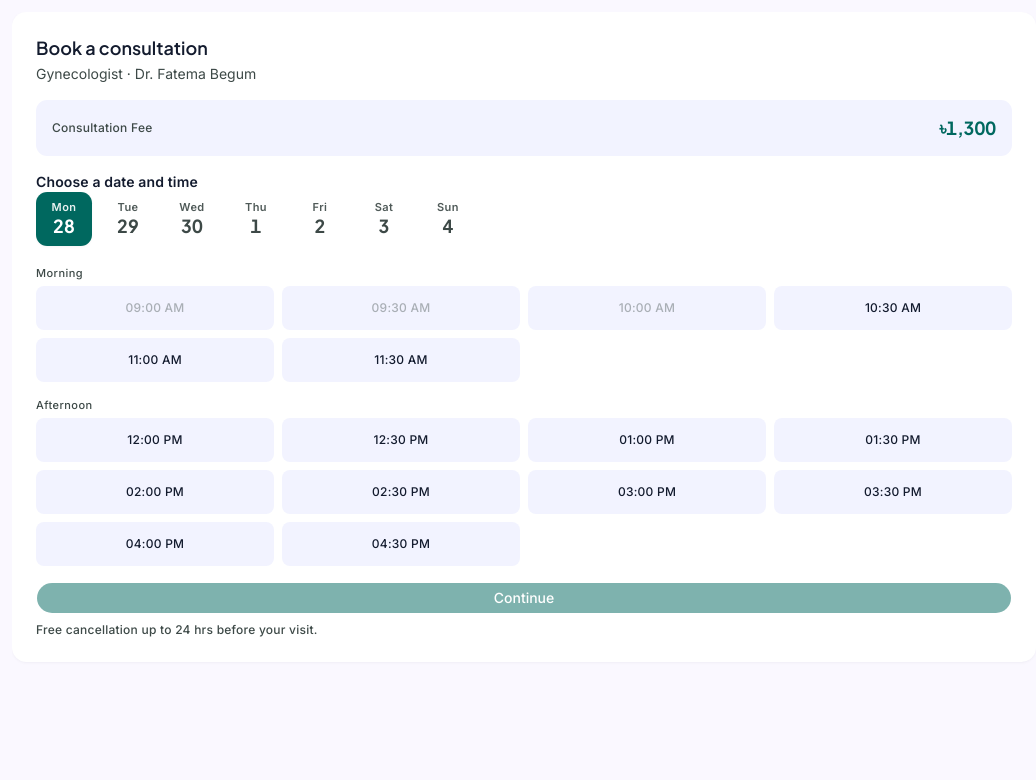
Test case: BookingFlow booking journey › returns to slot picking when the backend reports 409
Click the radio button named "10:30 AM" next to "10:30 AM" at (893, 308), box [885, 300, 901, 316]
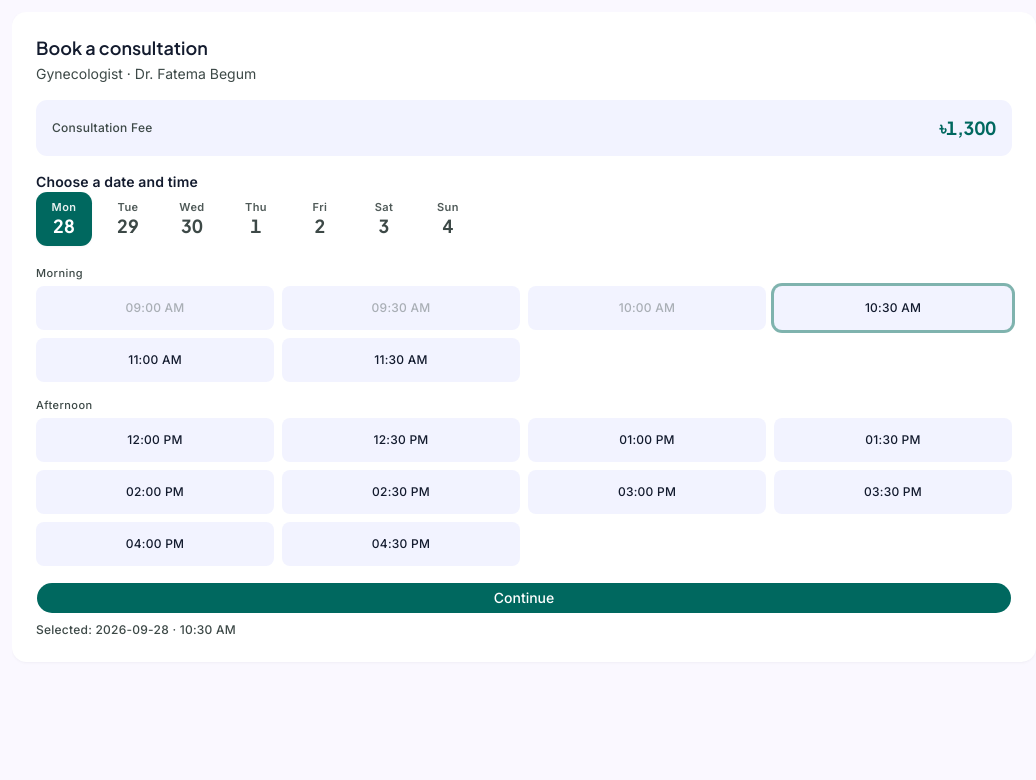
Click the button "Continue" at (524, 598), box [36, 582, 1012, 614]
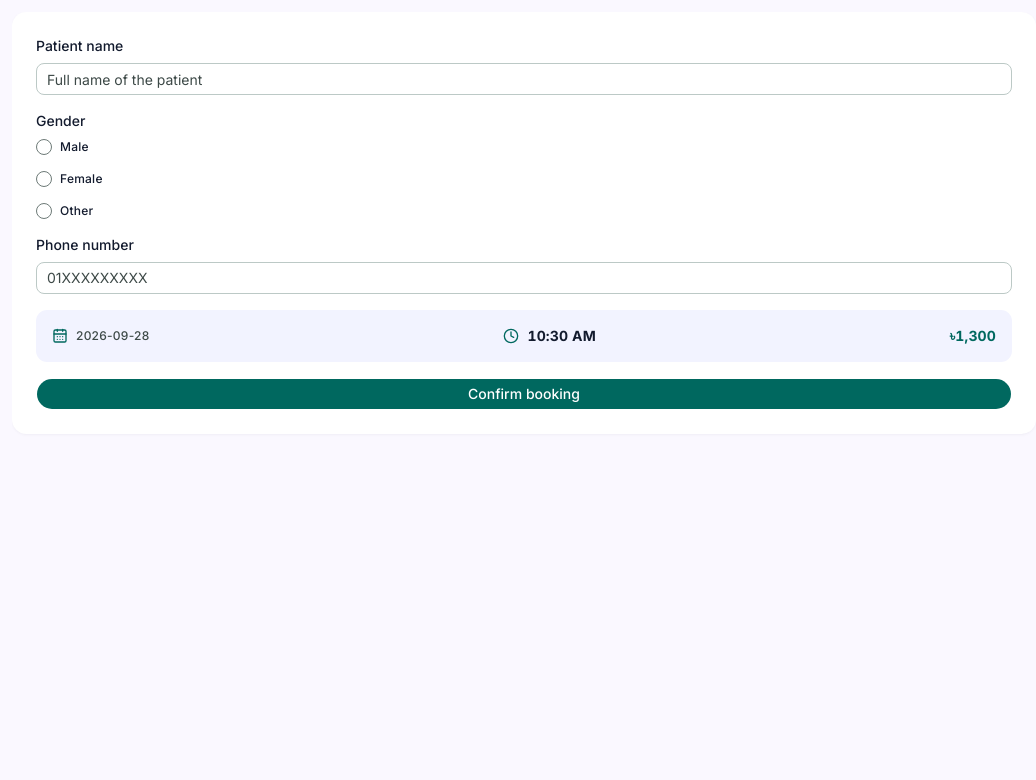
Type "Rifat Hossain" into the field labelled "Patient name" at (524, 79), box [36, 63, 1012, 95]
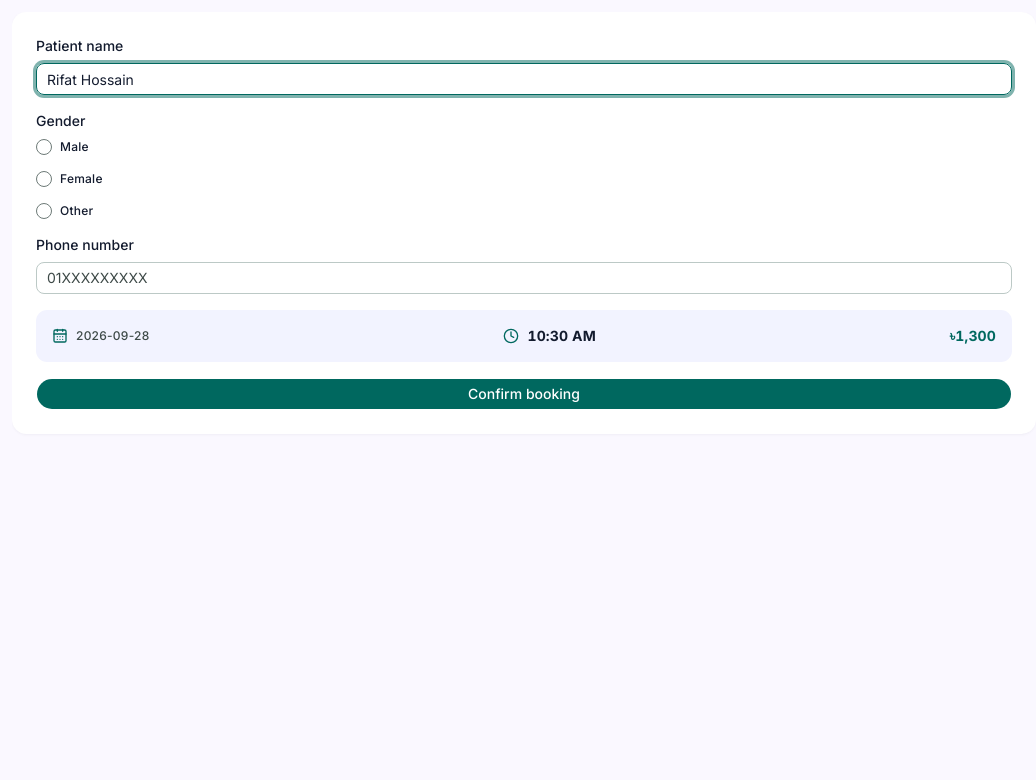
Click the 1st radio button named "Male" at (44, 146), box [36, 138, 52, 154]
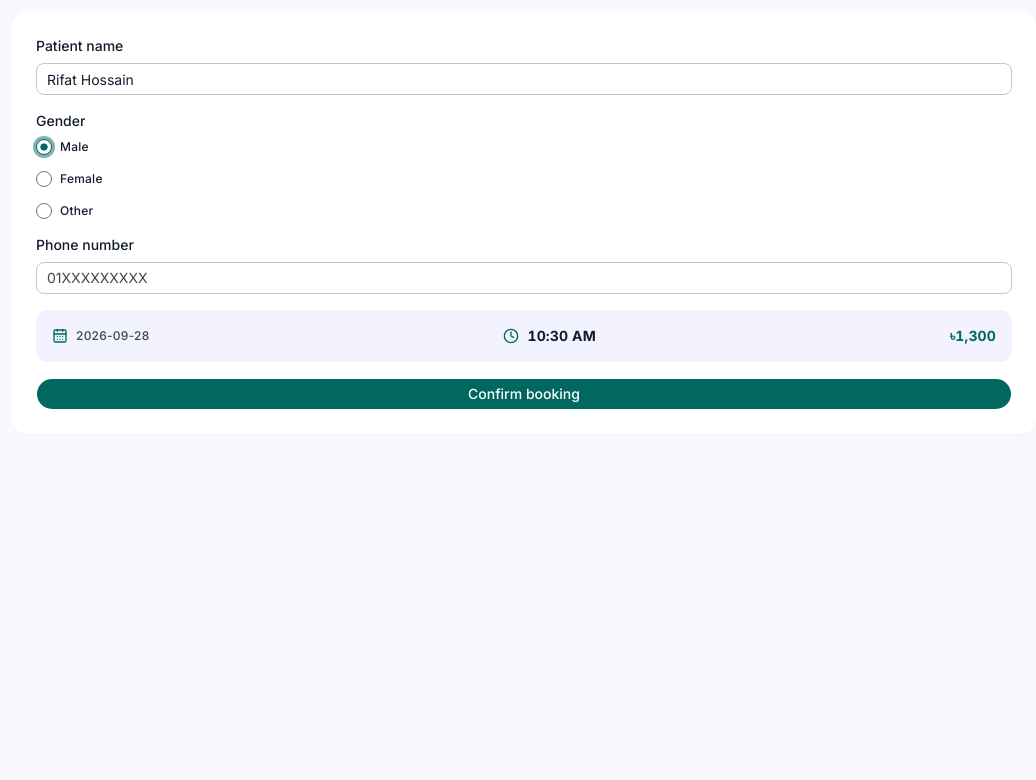
Type "01712345678" into the field labelled "Phone number" at (524, 278), box [36, 262, 1012, 294]
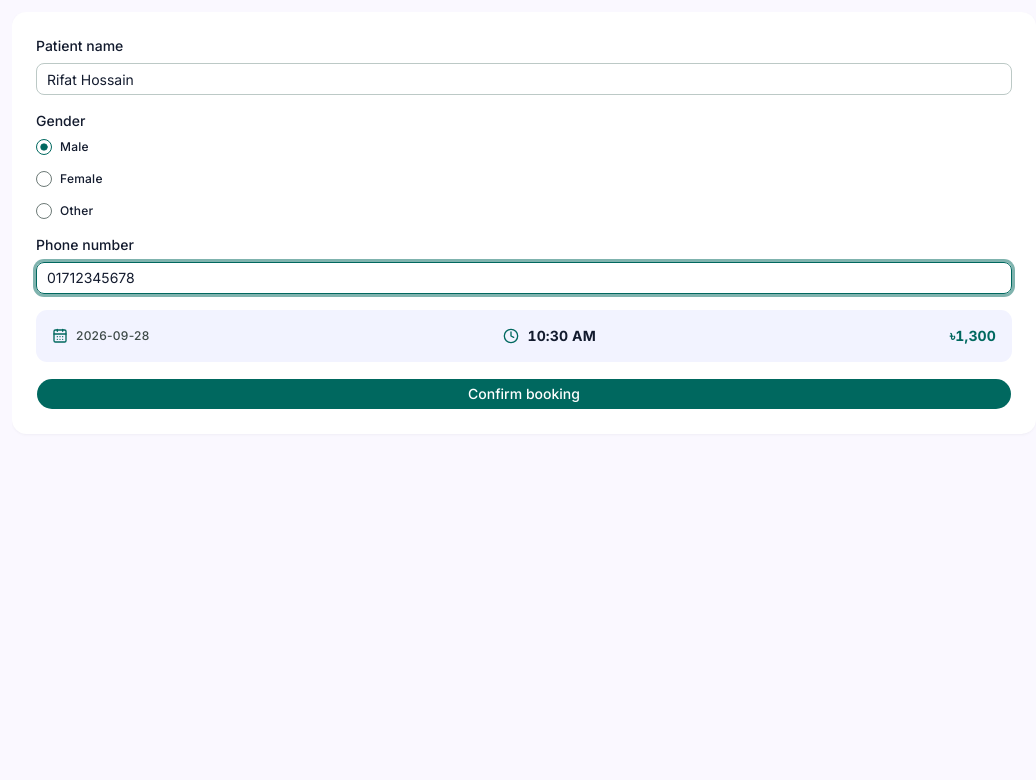
Click the button "Confirm booking" at (524, 394), box [36, 378, 1012, 410]
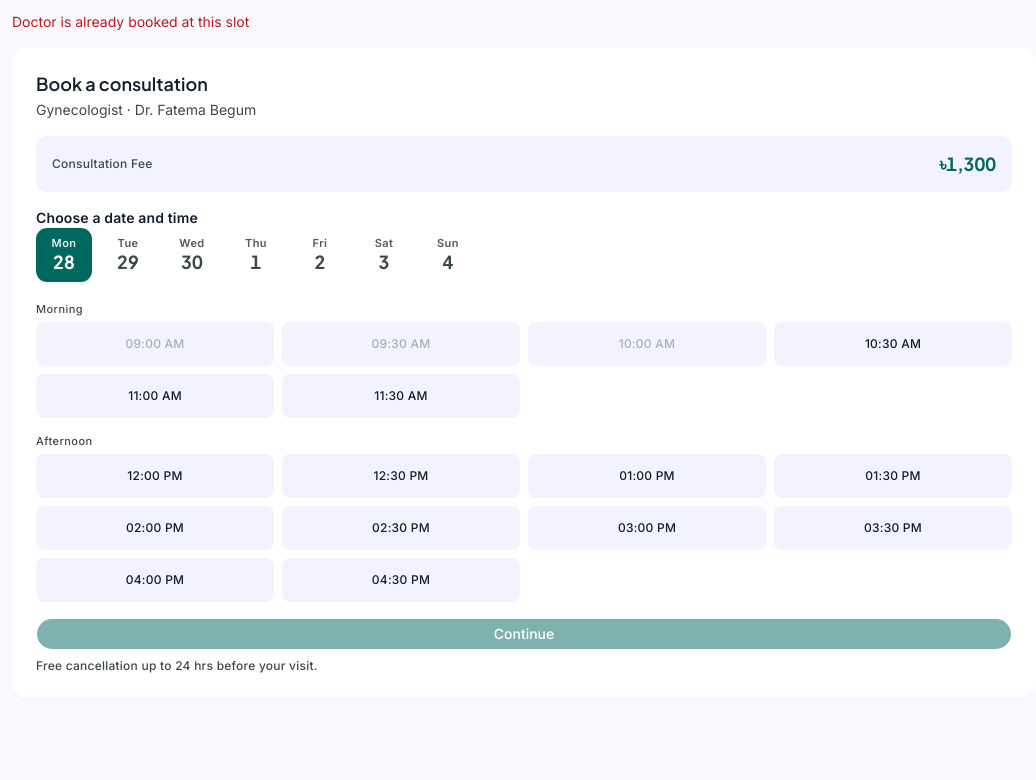
Expected: the message reads "Doctor is already booked at this slot", [12, 13, 249, 30]
Expected: the tab with aria-label "today" is shown, [36, 228, 92, 282]
